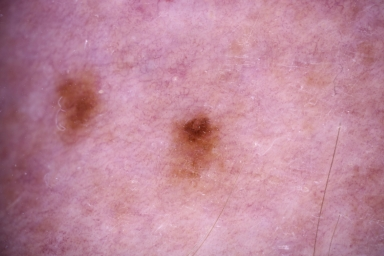nevus: (52, 75, 97, 137), (176, 115, 213, 173)
